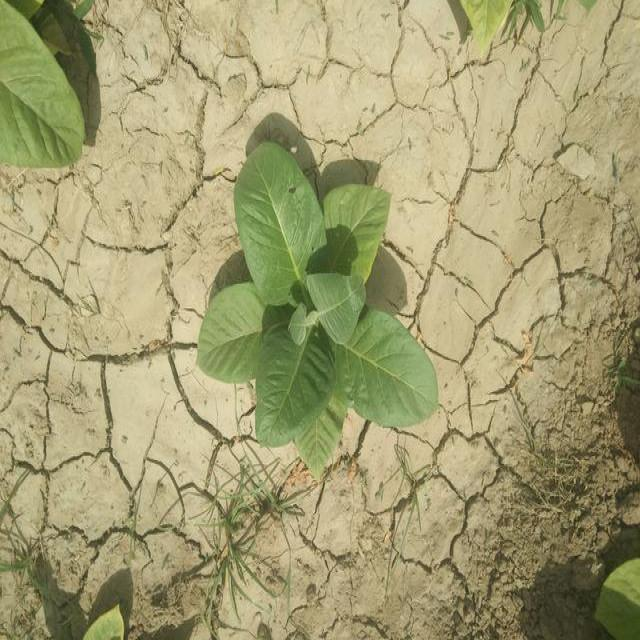crop: (196, 139, 440, 484), (0, 0, 85, 183), (595, 553, 639, 640), (466, 0, 512, 76), (91, 605, 128, 640)
